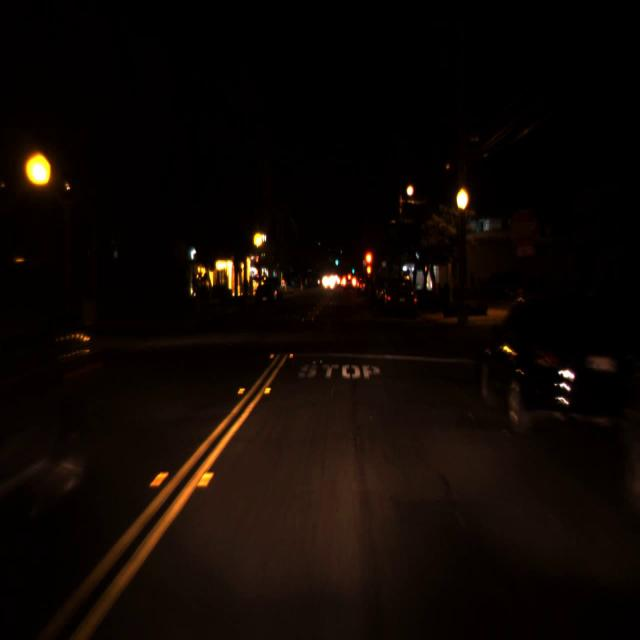go: (334, 252, 338, 266), (351, 266, 355, 274)
go traffic light: (334, 252, 338, 266), (351, 266, 355, 274)
stop: (364, 251, 374, 275), (254, 254, 260, 268)
stop traffic light: (364, 251, 374, 275), (254, 254, 260, 268)
